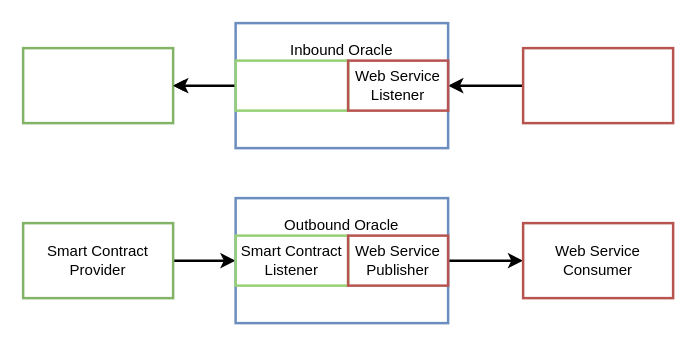
The diagram is 695 pixels wide and 345 high, and some of its shapes have lost their labels. Each missing label, with the centre of its shape:
Smart Contract Consumer: (97,85)
Smart Contract Publisher: (291,85)
Web Service Provider: (597,85)
